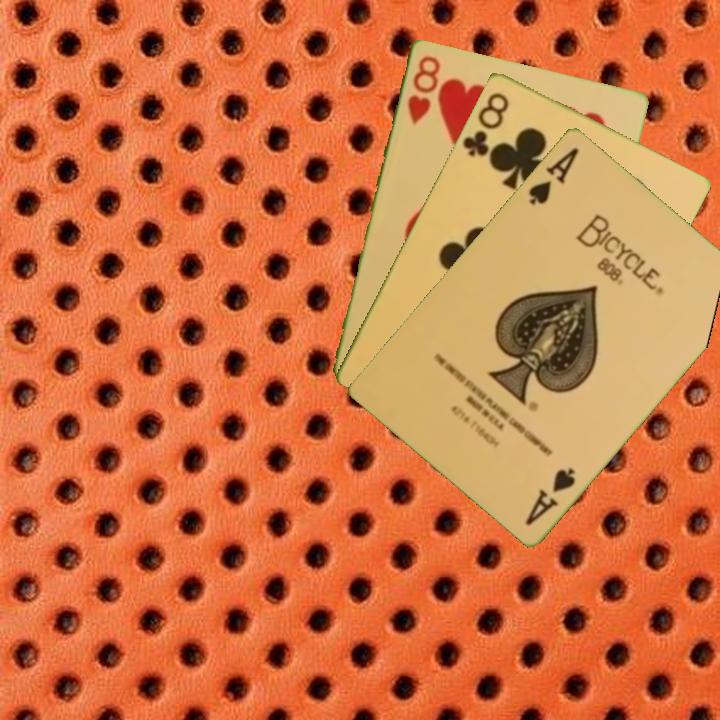8c: (458, 88, 512, 159)
8h: (403, 52, 443, 127)
As: (521, 464, 579, 528), (525, 143, 582, 208)
